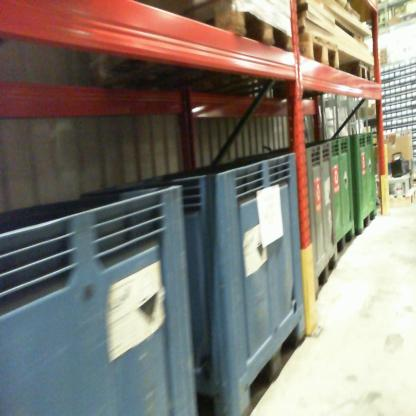pallet: (99, 12, 304, 89), (279, 34, 352, 82), (348, 54, 380, 95), (380, 186, 415, 206)
